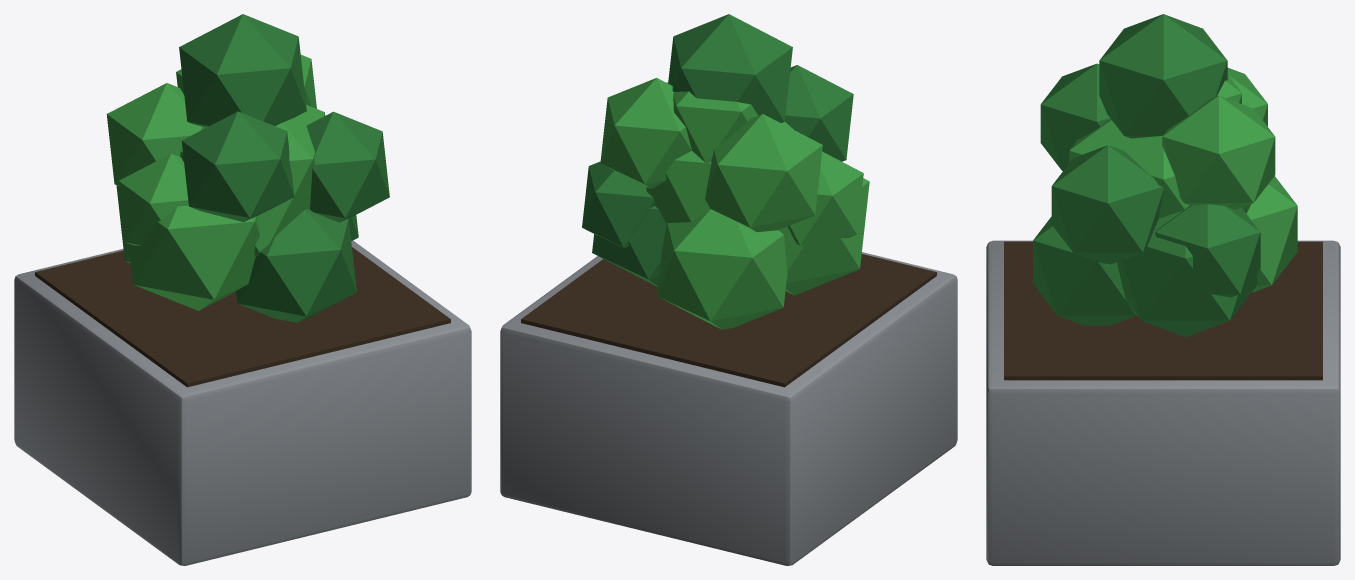
The model's file is sh_planter.glb.
3 renders of one model, left to right at view 1: azimuth 30°, elevation 25°; view 2: azimuth 150°, elevation 25°; view 3: azimuth 270°, elevation 25°, orthographic. The views are drawn at different scales.
Parts seen in each view (by area): view 1: trough, leaf.001, leaf, soil; view 2: trough, leaf, soil, leaf.001; view 3: trough, leaf.001, soil, leaf.
Boxes of the visible parts, x1,y1,x2,y2 form: trough: (14, 240, 471, 565); leaf.001: (179, 14, 389, 322); leaf: (106, 54, 325, 310); soil: (35, 247, 450, 387); trough: (500, 252, 957, 565); leaf: (600, 78, 869, 329); soil: (521, 254, 936, 387); leaf.001: (582, 14, 853, 286); trough: (986, 240, 1340, 565); leaf.001: (1033, 14, 1260, 336); soil: (1004, 241, 1322, 380); leaf: (1069, 68, 1297, 292).
Bounding box in the file's own units: 1.6 × 2.39 × 1.6.
